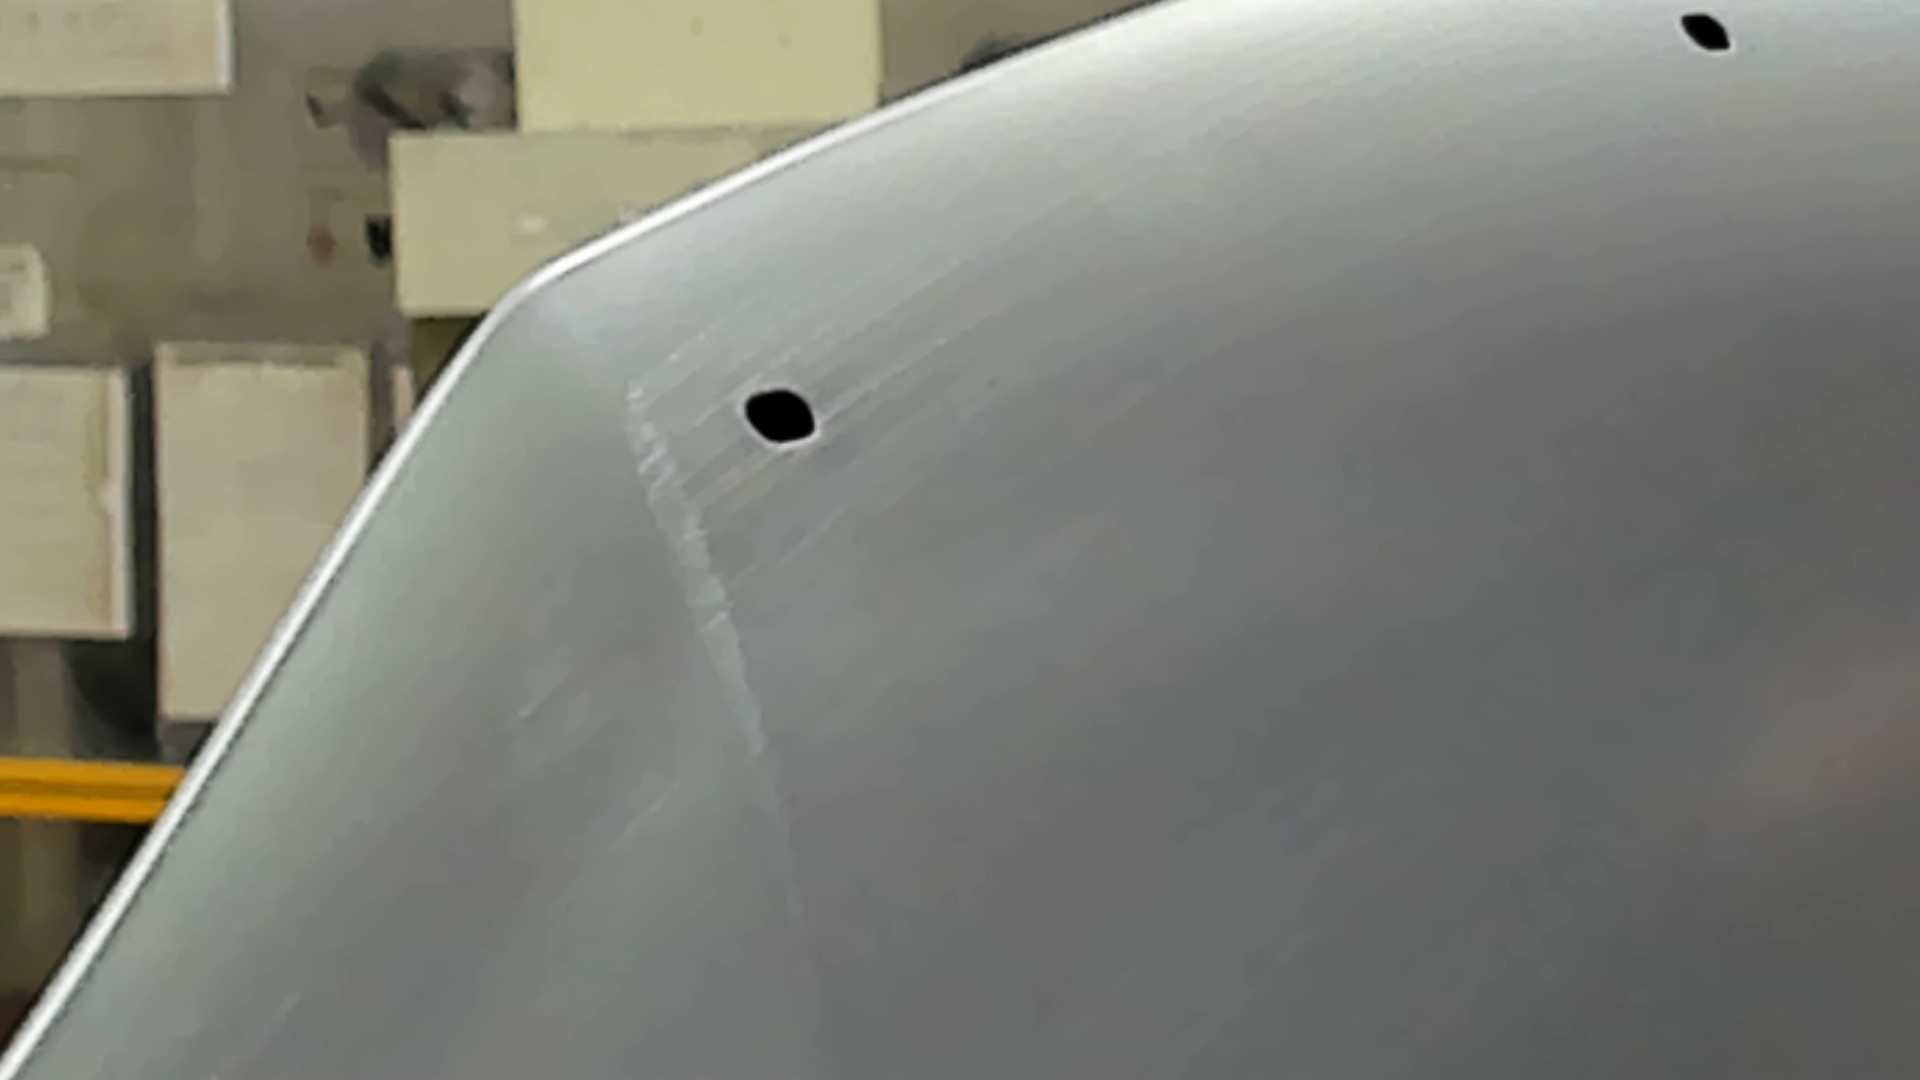amorfo: (742, 377, 820, 450), (1673, 8, 1738, 58)
capo: (881, 146, 1920, 1080)
